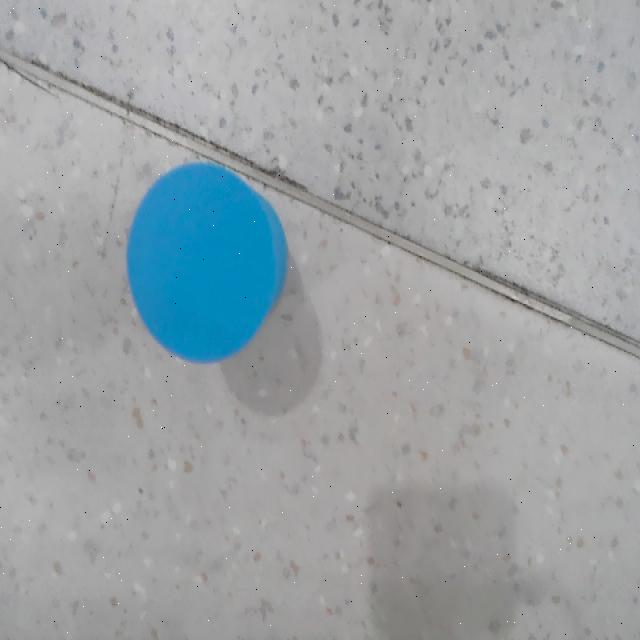b: (126, 160, 275, 362)
